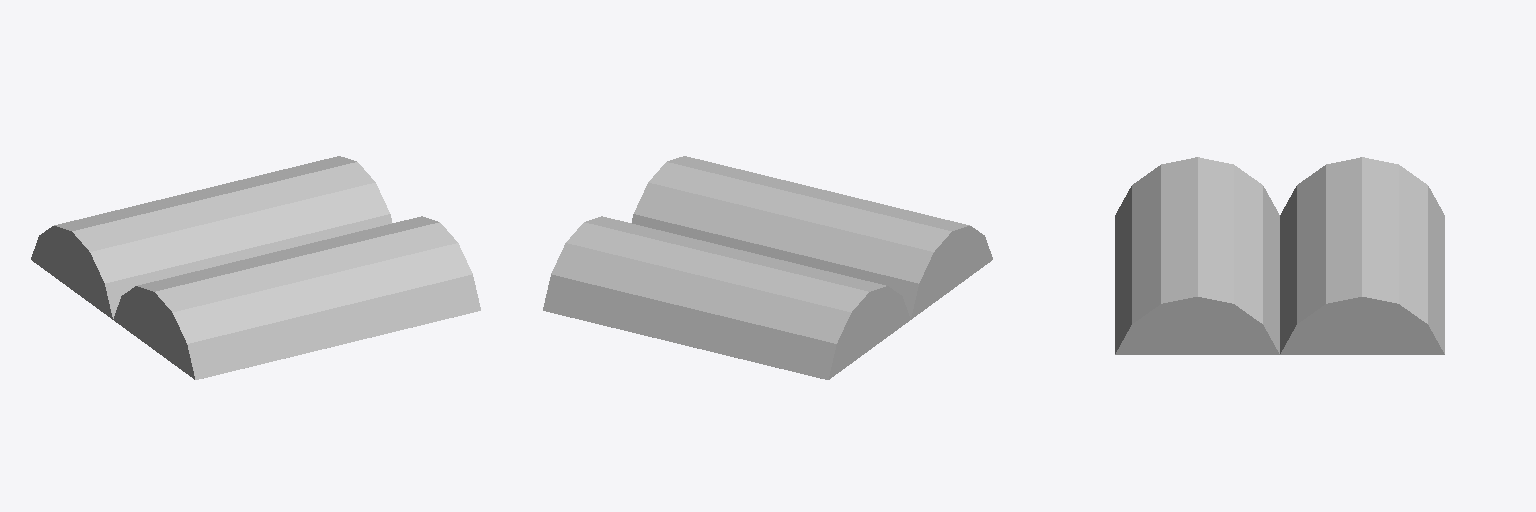
Rendered from obstacle09.obj.
The picture shows the model from 3 angles: view 1: azimuth 30°, elevation 25°; view 2: azimuth 150°, elevation 25°; view 3: azimuth 270°, elevation 25°; orthographic projection.
Visible parts, largest first — view 1: obstacle09; view 2: obstacle09; view 3: obstacle09.
Part boxes in pixels (x1,y1,x2,y2): obstacle09: (31, 156, 480, 379); obstacle09: (543, 156, 992, 379); obstacle09: (1115, 157, 1444, 354).
Size of the model in its own units: 2 by 0.3905 by 2.